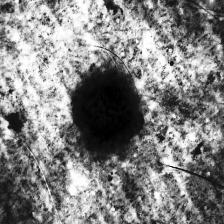Benign Marking or Mole: (67, 66, 148, 154)
